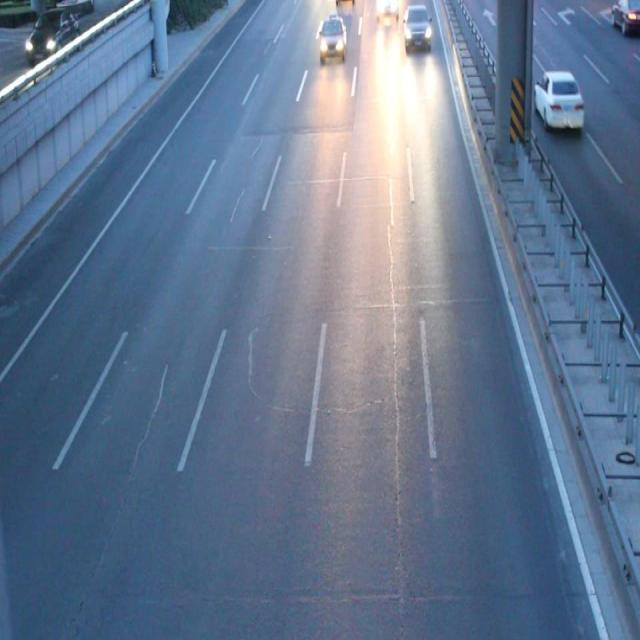car: (403, 1, 430, 50), (318, 17, 346, 61)
